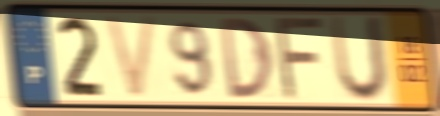2: (56, 14, 104, 99)
9: (166, 18, 215, 98)
D: (216, 15, 276, 101)
F: (274, 15, 329, 103)
U: (326, 12, 391, 106)
V: (101, 13, 161, 103)
